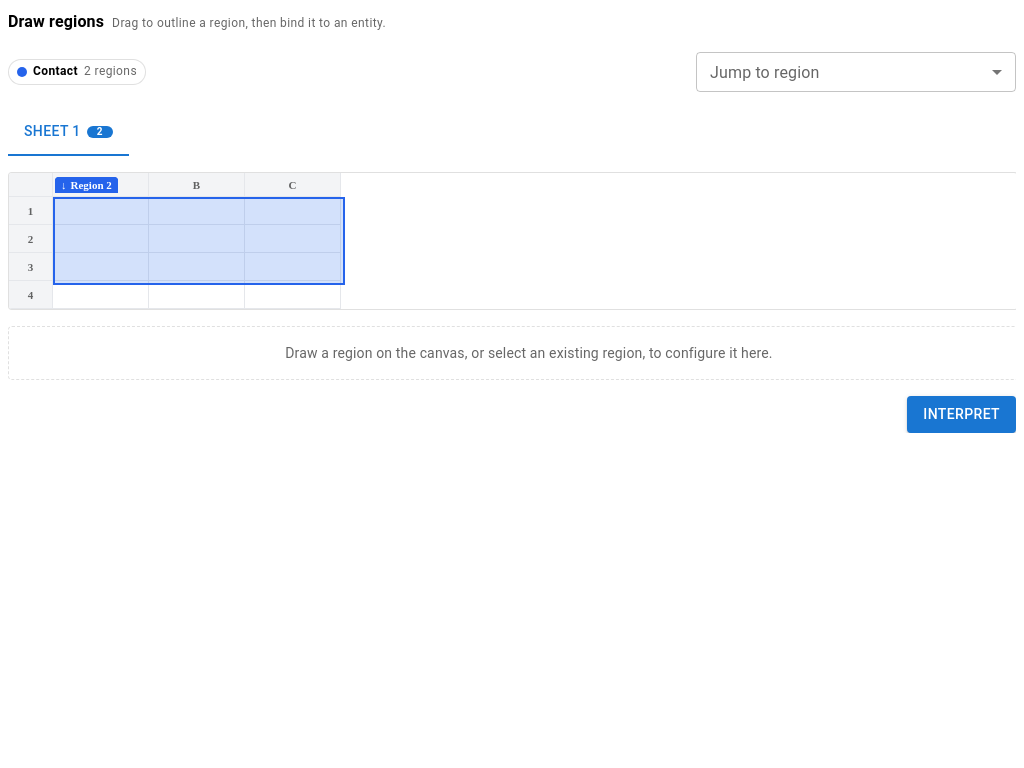
it: RegionDrawingStepUI — interpret validation › clicking Interpret is blocked when two regions share a target (C1 duplicate)
The width and height of the screenshot is (1024, 768).
Click the button "Interpret" at coordinates (962, 414), box [907,396,1016,432]
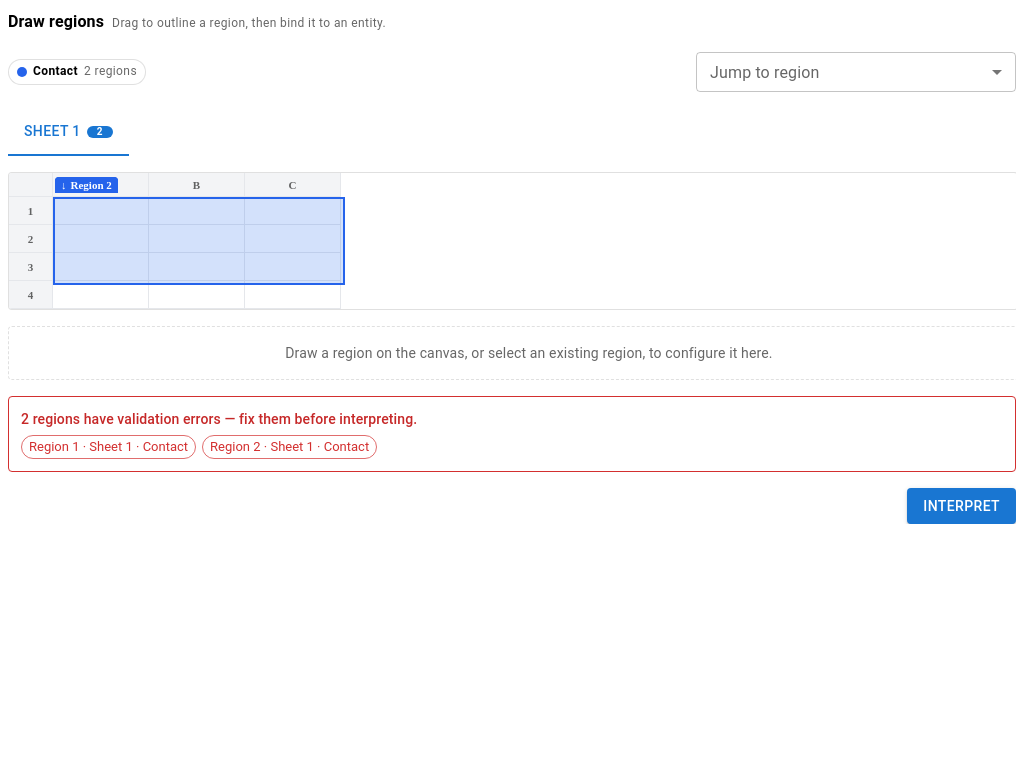
Result: the message shows "2 regions have validation errors" at [21,411,221,427]
